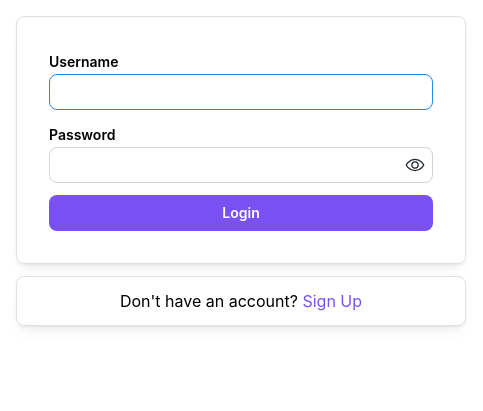
it: Login › shows error alert when API returns an error
Type "alice" into the field labelled "Username" at (241, 92), box [49,74,433,110]
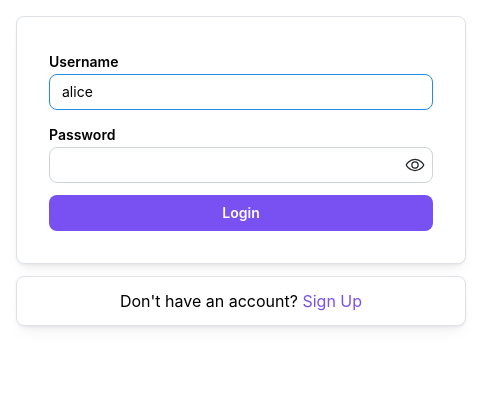
Type "wrong" into the password field labelled "Password" at (241, 165), box [50,148,432,182]
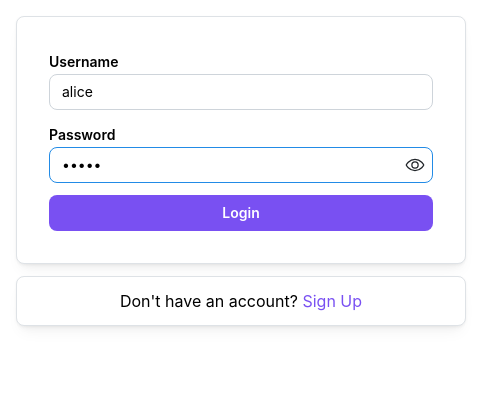
Click the button "Login" at (241, 213), box [49,195,433,231]
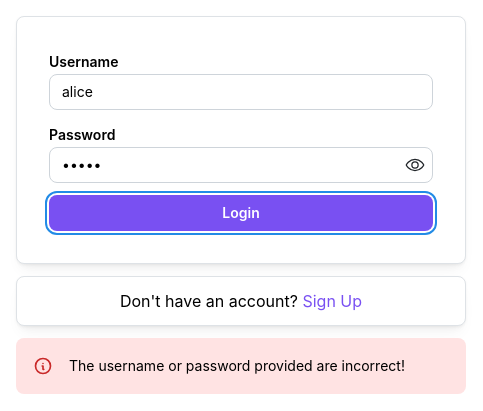
Now the message "The username or password provided are incorrect!" is shown, box [16,338,466,394]
